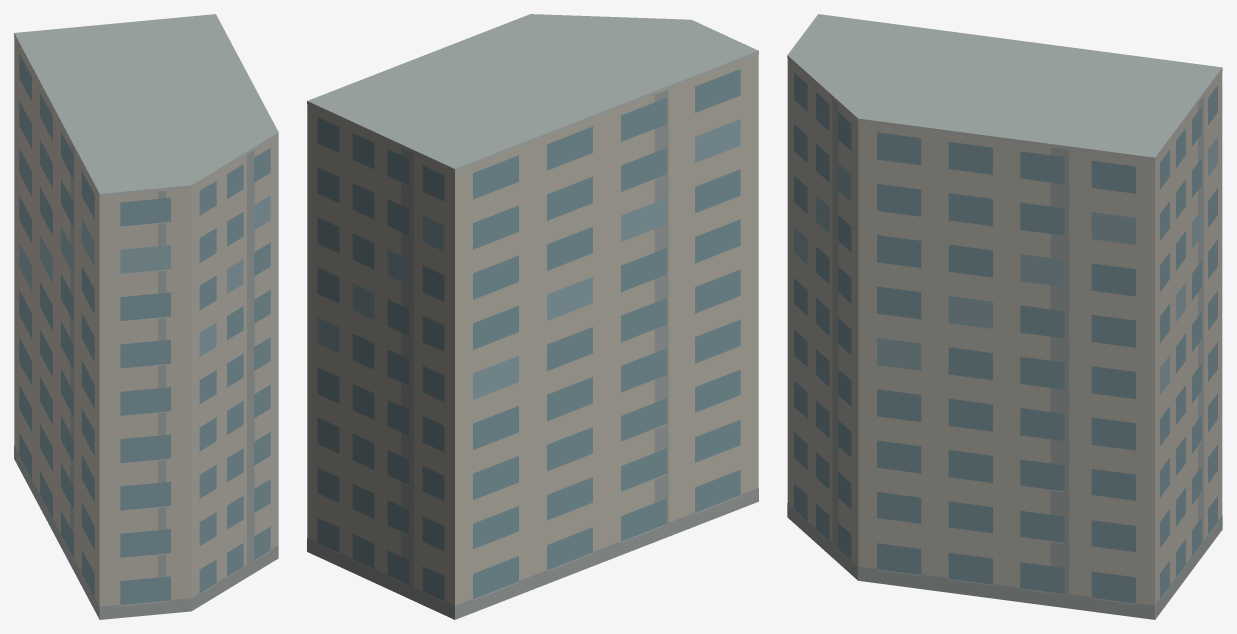
The model's file is survey-upis-33030485.glb.
The picture shows the model from 3 angles, left to right: view 1: azimuth 30°, elevation 25°; view 2: azimuth 150°, elevation 25°; view 3: azimuth 270°, elevation 25°; orthographic projection. The views are drawn at different scales.
Visible parts, largest first — view 1: survey-upis-33030485.tmp; view 2: survey-upis-33030485.tmp; view 3: survey-upis-33030485.tmp.
Part boxes in pixels (<box>): survey-upis-33030485.tmp: <box>14,14,278,619</box>; survey-upis-33030485.tmp: <box>307,14,758,619</box>; survey-upis-33030485.tmp: <box>787,14,1222,619</box>.
Size of the model in its own units: 21.01 by 31.5 by 26.88.
